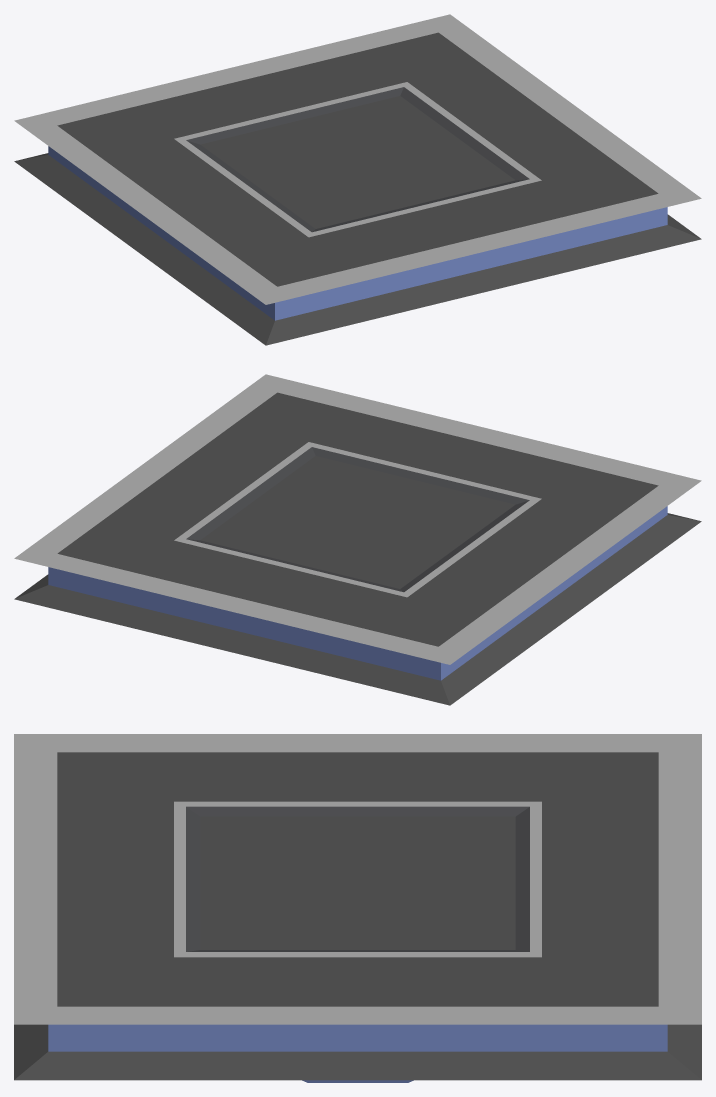
Rendered from Platform Floating 3.fbx.
The picture shows the model from 3 angles, top to bottom: view 1: azimuth 30°, elevation 25°; view 2: azimuth 150°, elevation 25°; view 3: azimuth 270°, elevation 25°; orthographic projection. The views are drawn at different scales.
Parts seen in each view (by area): view 1: light_1; view 2: light_1; view 3: light_1.
Part boxes in pixels (bbox=[...]): light_1: bbox=[14, 14, 701, 345]; light_1: bbox=[14, 374, 701, 705]; light_1: bbox=[14, 734, 701, 1082].
Size of the model in its own units: 278 by 81.18 by 278.
